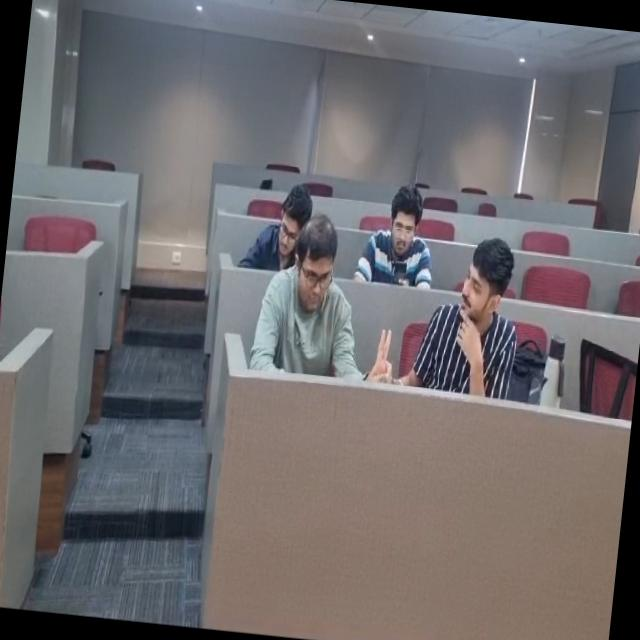cheating: (242, 212, 412, 424), (412, 228, 536, 413), (350, 164, 459, 301)
non-cheating: (238, 167, 328, 267)
